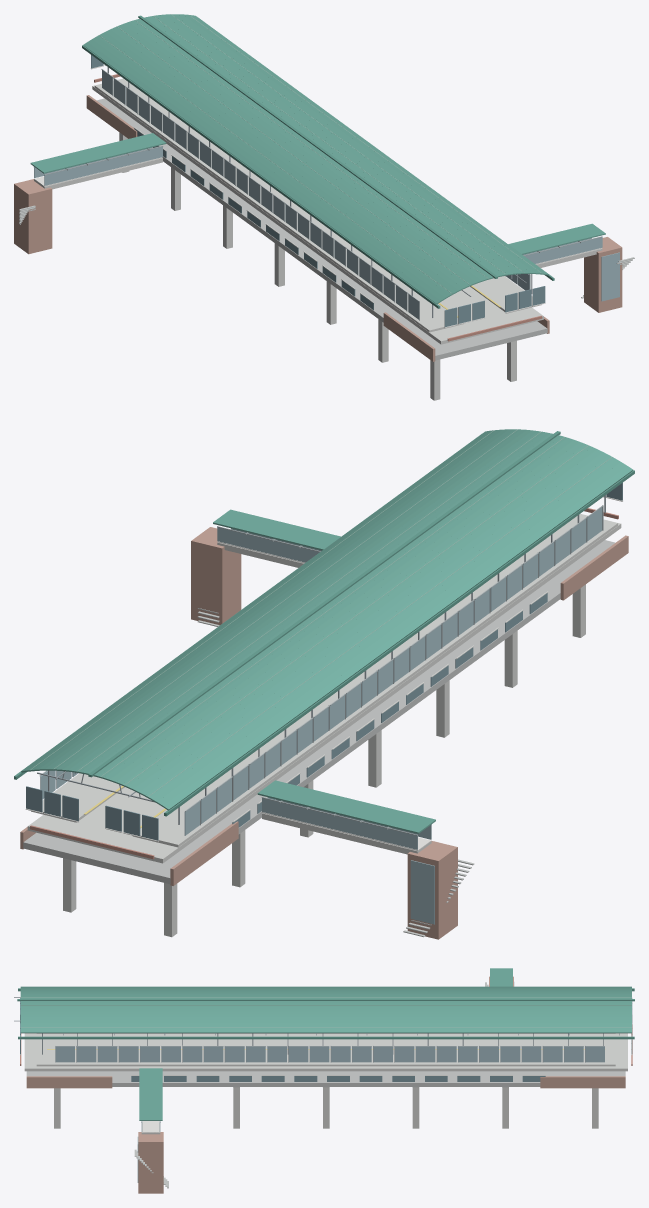
3 renders of one model, top to bottom at view 1: azimuth 30°, elevation 25°; view 2: azimuth 150°, elevation 25°; view 3: azimuth 270°, elevation 25°, orthographic. The views are drawn at different scales.
Visible parts, largest first — view 1: MRT6 station 12 concept geometry; view 2: MRT6 station 12 concept geometry; view 3: MRT6 station 12 concept geometry.
Part boxes in pixels (bbox=[...]): MRT6 station 12 concept geometry: bbox=[14, 14, 634, 400]; MRT6 station 12 concept geometry: bbox=[14, 429, 634, 939]; MRT6 station 12 concept geometry: bbox=[14, 968, 634, 1193].
Bounding box in the file's own units: 101 × 30.19 × 152.
